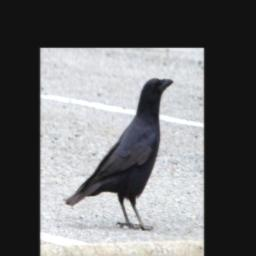Crow: (65, 77, 173, 231)
